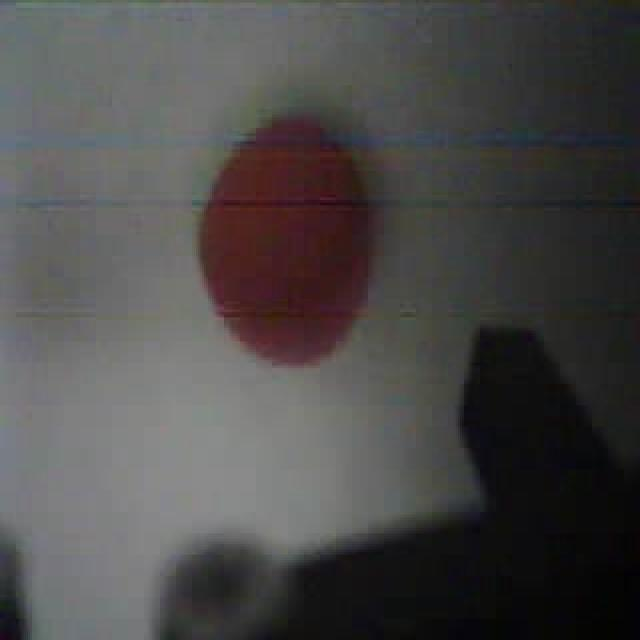red_ball: (194, 109, 376, 371)
